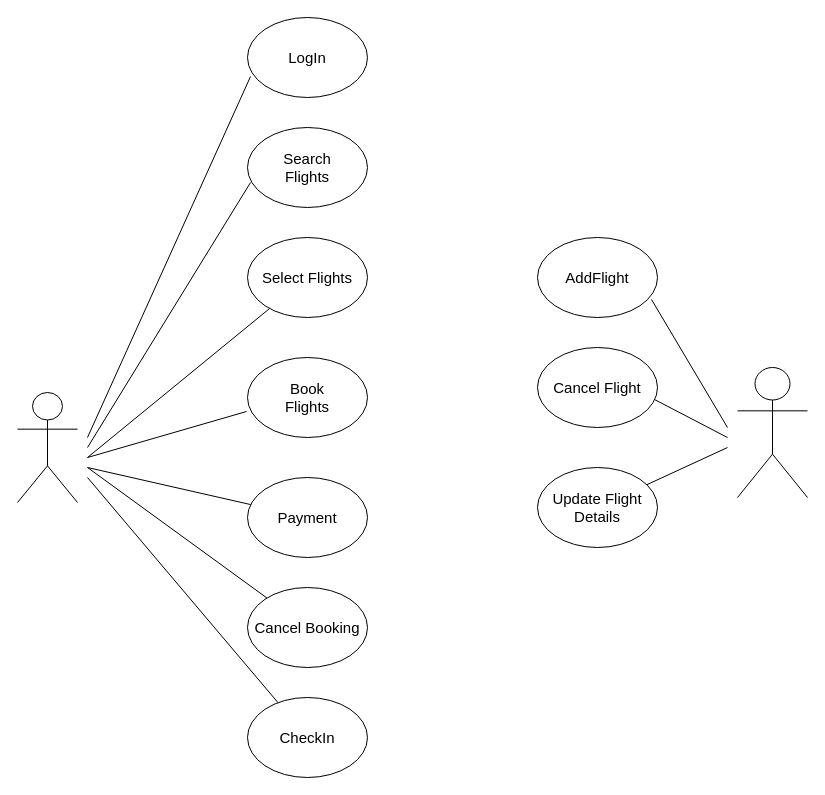
This 825x795 diagram has some shape labels left out. The centre of each missing label's shape, as x and y in pixels:
Admin: point 772,432
User: point 47,447
